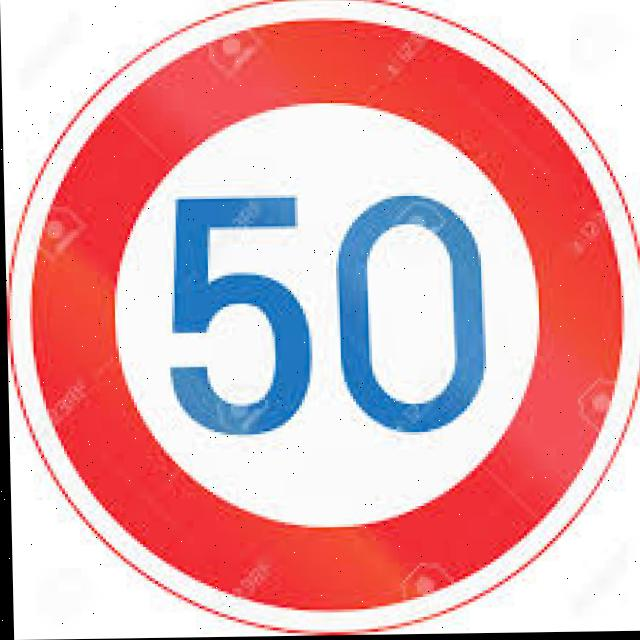Speed limit 50: (1, 1, 640, 638)
